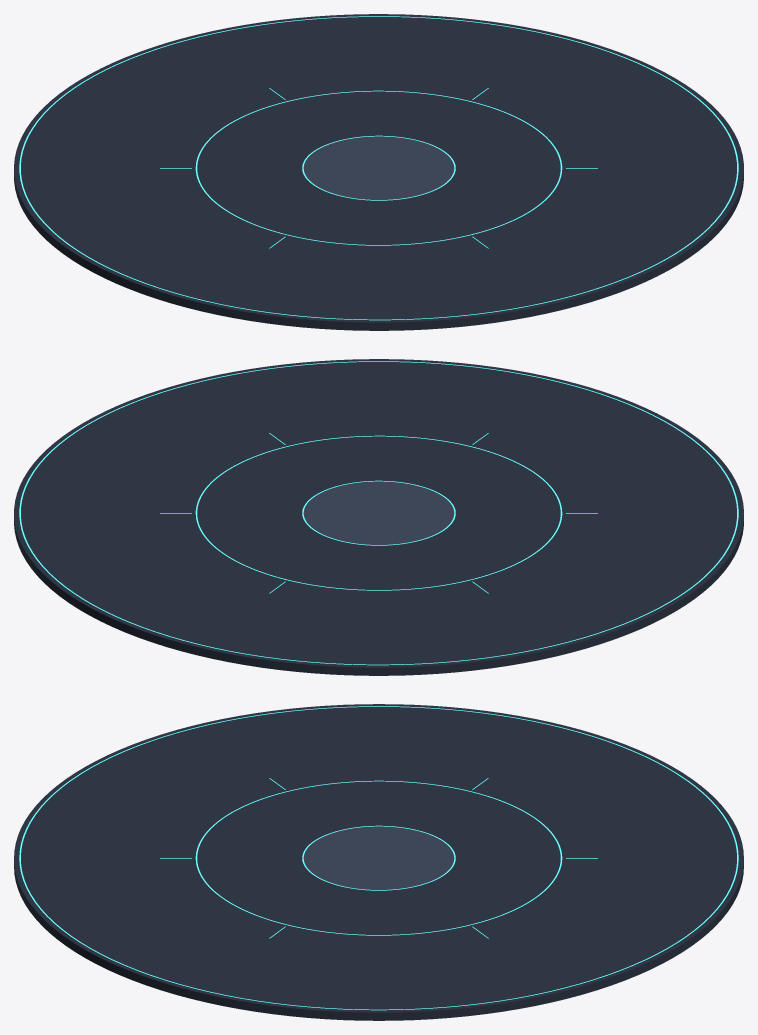
3 renders of one model, top to bottom at view 1: azimuth 30°, elevation 25°; view 2: azimuth 150°, elevation 25°; view 3: azimuth 270°, elevation 25°, orthographic.
Visible parts, largest first — view 1: nexo_floor.lod0; view 2: nexo_floor.lod0; view 3: nexo_floor.lod0.
Boxes of the visible parts, x1=… form: nexo_floor.lod0: x1=14, y1=14, x2=743, y2=330; nexo_floor.lod0: x1=14, y1=359, x2=743, y2=675; nexo_floor.lod0: x1=14, y1=704, x2=743, y2=1020.
Bounding box in the file's own units: 48 × 0.6094 × 48.
